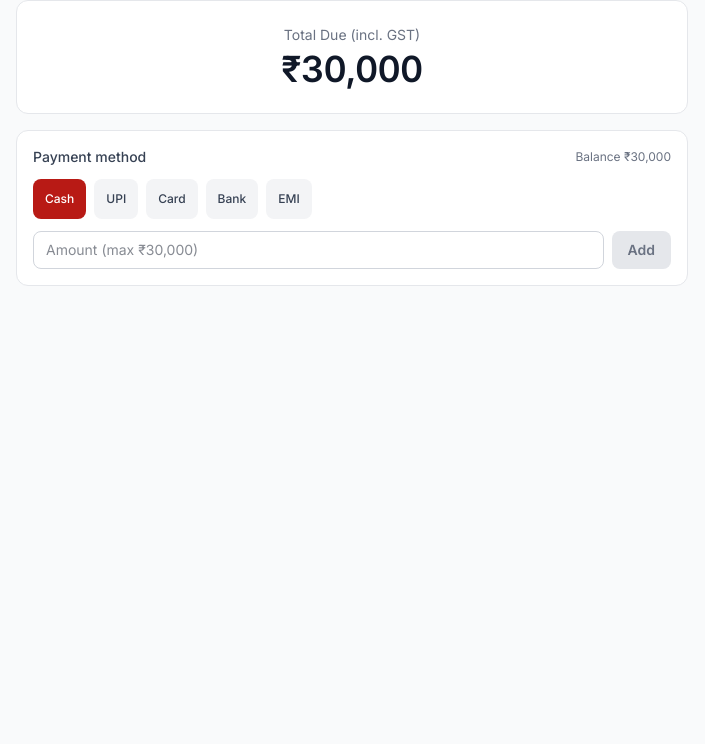
POS EMI quote uses the store policy rate (pos.emi_annual_rate_percent) › positive control: when the policy fetch fails, the screen falls back to the backend default 12% (2221.22)
Click the button "EMI": click(289, 199) [266,179,312,219]
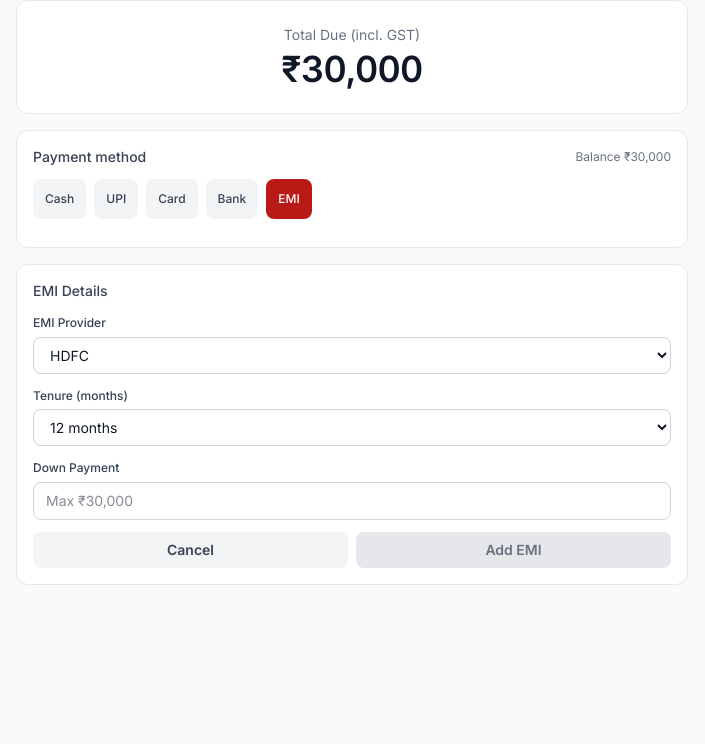
In the number field with placeholder "Max ₹30,000": (352, 501) [33,482,671,520], type "5000"
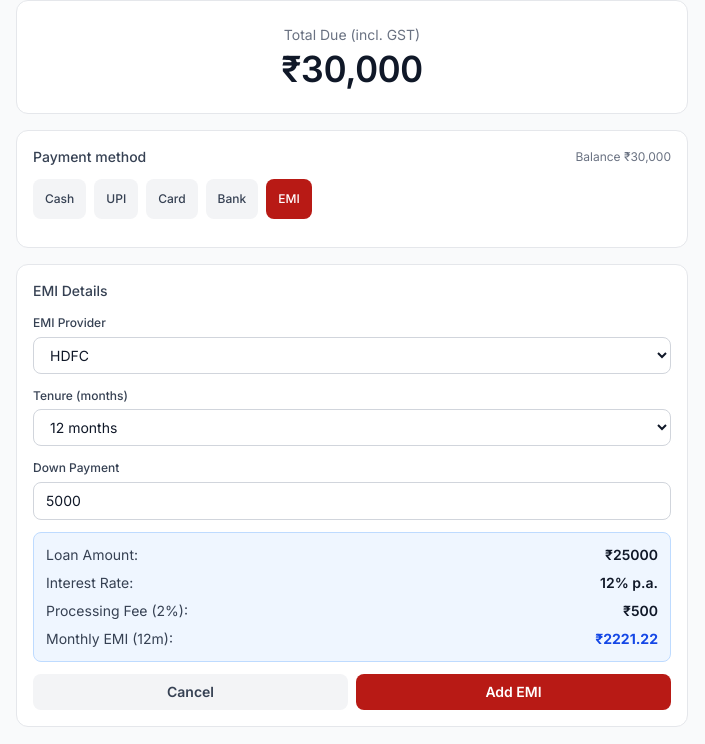
Result: the text "12% p.a." is shown at [600,573,658,593]
Result: the text with test id "emi-monthly-quote" reads "₹2221.22" at [595,629,658,649]
